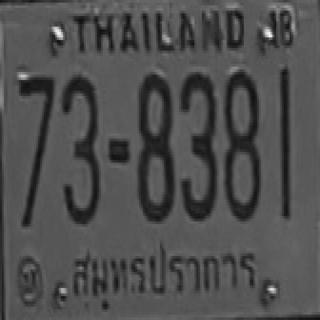N01: (278, 67, 290, 205), (278, 68, 290, 193)
N03: (60, 73, 100, 223), (179, 69, 215, 219)
N07: (17, 75, 53, 224), (17, 75, 53, 195)
N08: (135, 71, 173, 220), (223, 69, 259, 219)
P57: (66, 244, 264, 313)
